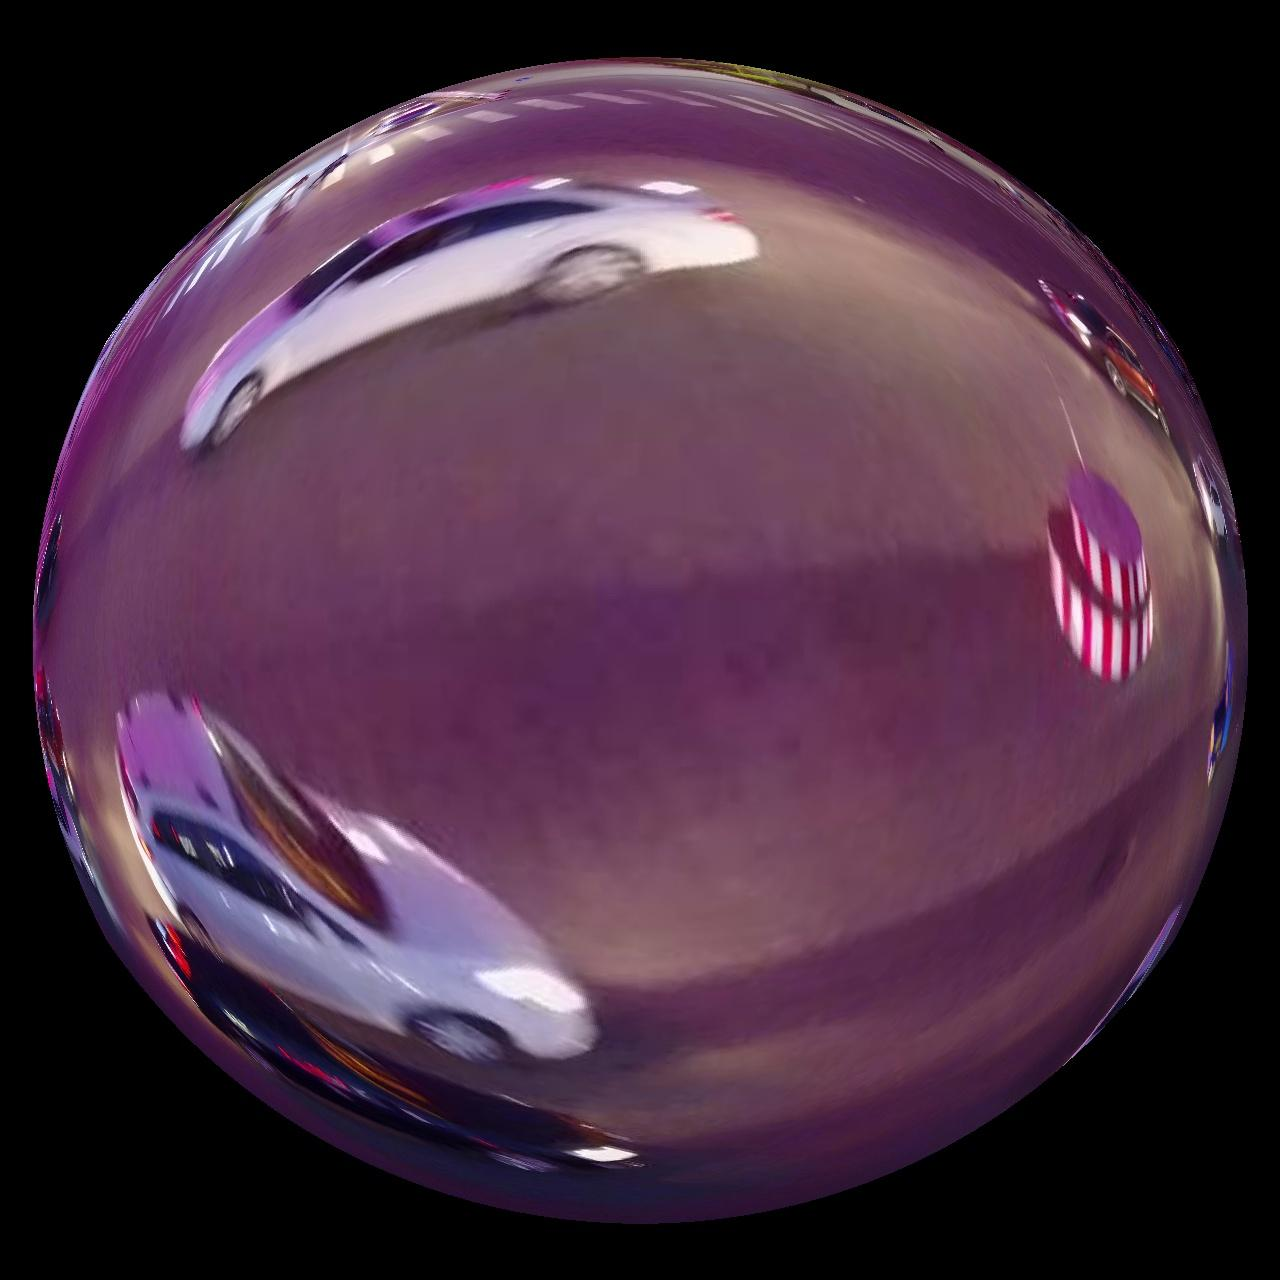cars: (117, 693, 597, 1063), (181, 176, 760, 449)
